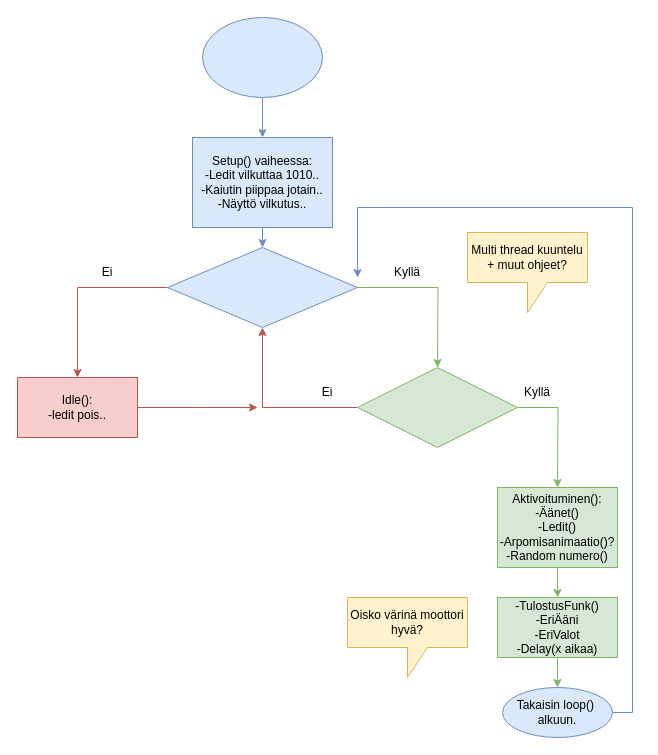
Some shapes in this 658 by 755 pixel diagram are drawn without their labels. The shapes that lost their labels are listed below. From the top down, each one's centre as x and y in pixels, then its label:
At (x=262, y=57): "Virta kytkimestä".
At (x=262, y=287): "Loop(): onko liikettä sensorissa?".
At (x=437, y=407): "Ylittyykö ravistamisen rajat? -näytölle ohjeet..".
